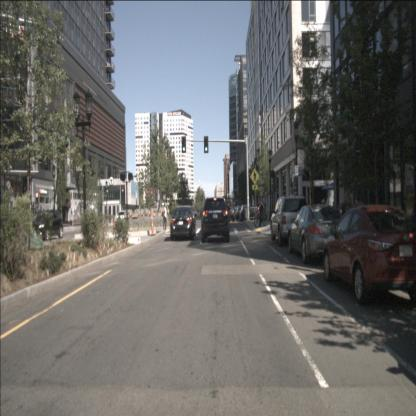cone: (150, 207, 157, 236)
